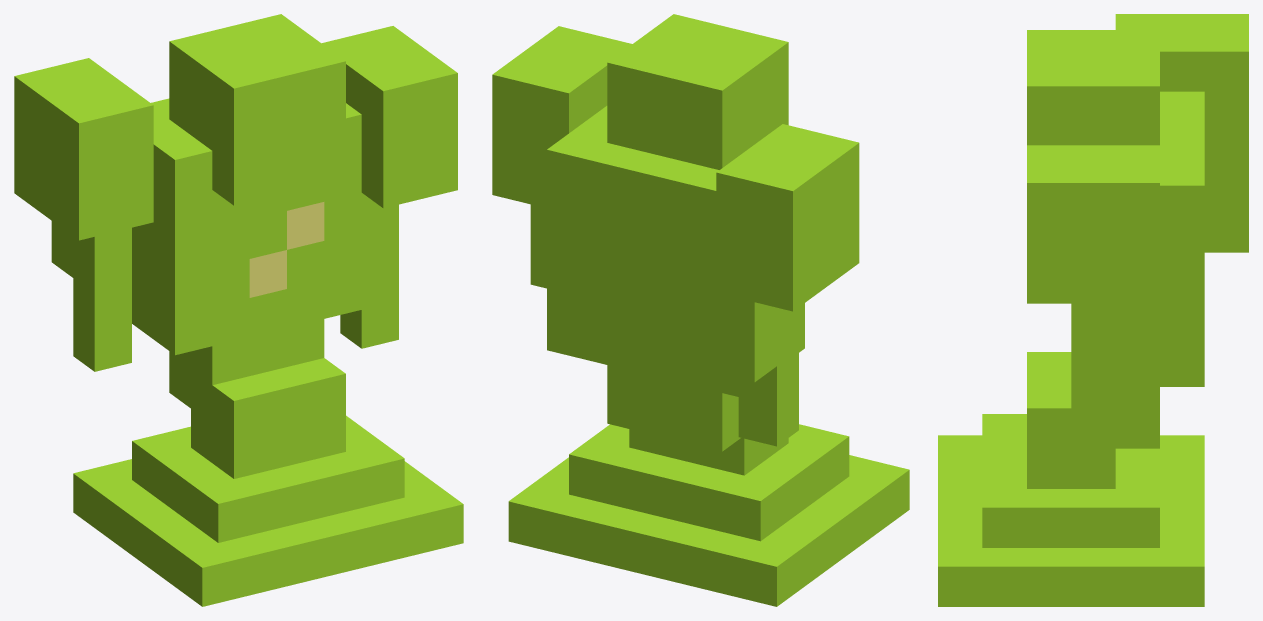
The model's file is slob_a_walk_0.obj.
3 renders of one model, left to right at view 1: azimuth 30°, elevation 25°; view 2: azimuth 150°, elevation 25°; view 3: azimuth 270°, elevation 25°, orthographic. The views are drawn at different scales.
Bounding box in the file's own units: 0.9 × 1.2 × 0.7.
1 material, 1 textured.
